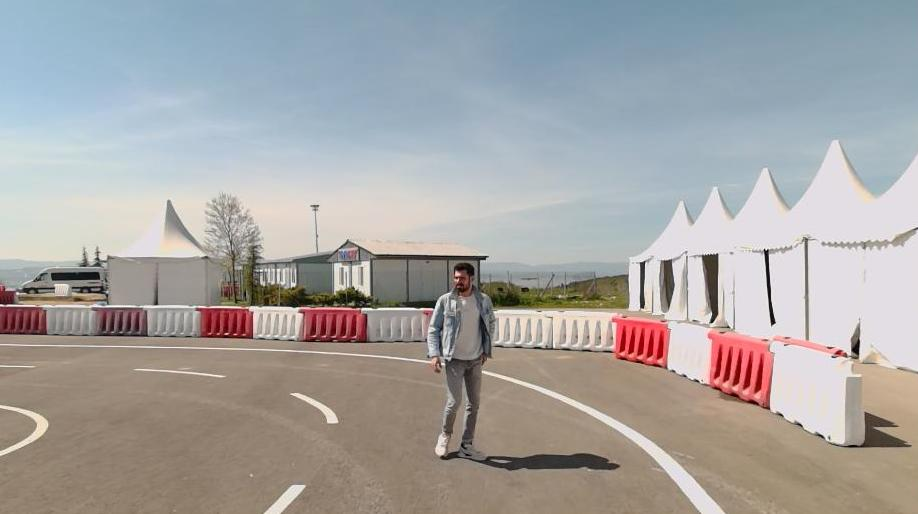nesne: (0, 339, 727, 514), (0, 339, 727, 513), (0, 363, 342, 506), (488, 371, 727, 514), (425, 260, 494, 464), (767, 339, 865, 445), (0, 342, 426, 362), (705, 327, 771, 407), (494, 309, 615, 348), (612, 314, 668, 367), (664, 321, 710, 385), (20, 267, 105, 298), (1, 402, 48, 456), (362, 305, 428, 343), (302, 306, 366, 341), (147, 303, 201, 337), (93, 303, 148, 336), (200, 304, 253, 337), (252, 304, 303, 337), (289, 389, 338, 421), (49, 303, 96, 335), (0, 303, 48, 334), (261, 482, 305, 512), (133, 367, 223, 377), (0, 365, 33, 368)
